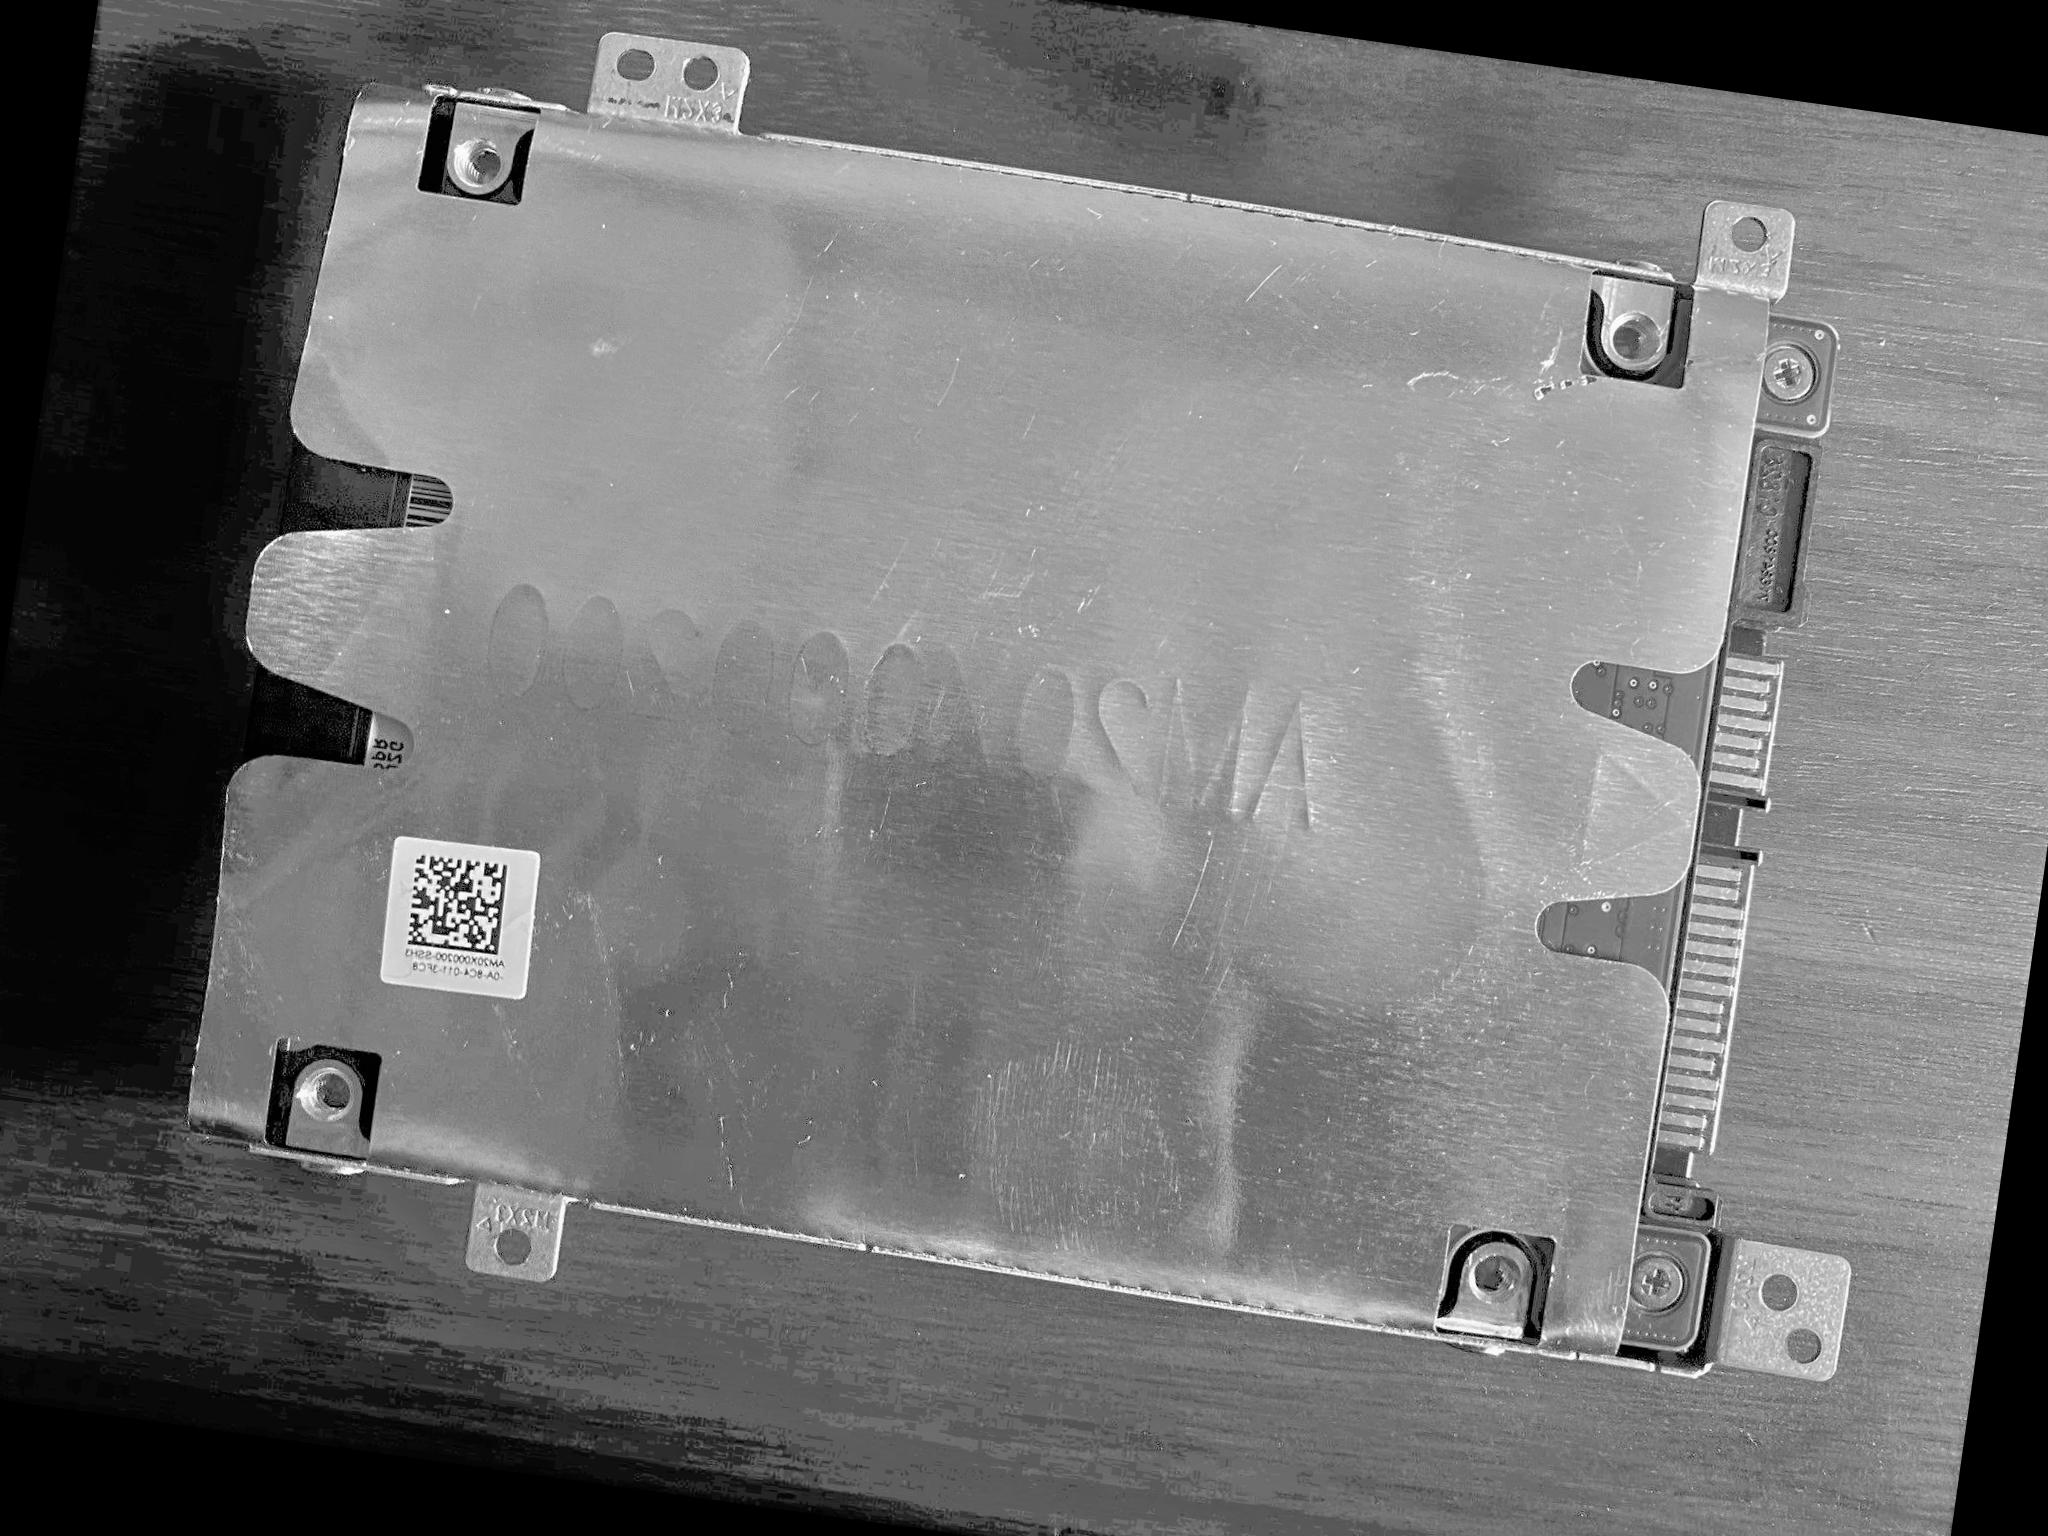PH: (1624, 1249, 1688, 1318)
